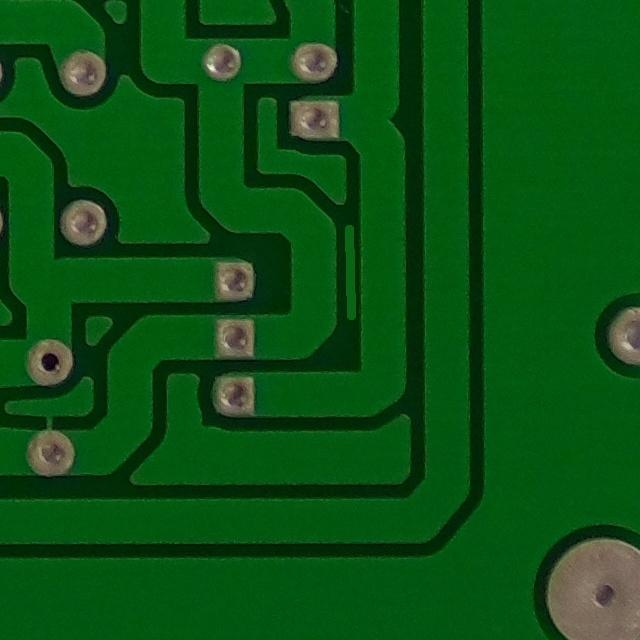spurious_copper: (322, 211, 375, 329)
